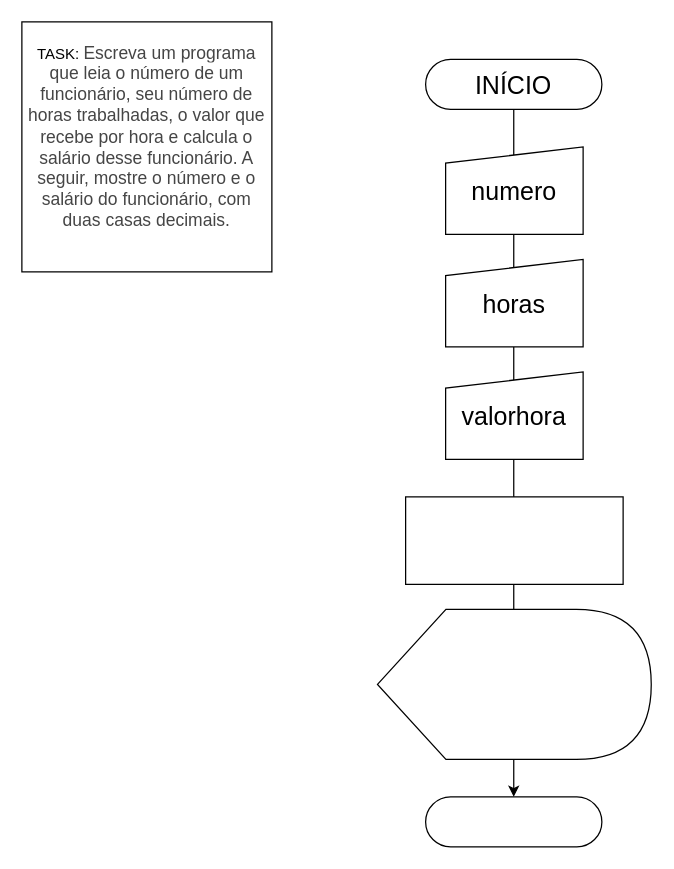
This 674x869 diagram has some shape labels left out. Each missing label, with the centre of its shape:
"Número =" , numero "Salário =", salario: pixel 513 683
fim: pixel 513 821
salario = (horas * valorhora): pixel 513 540
